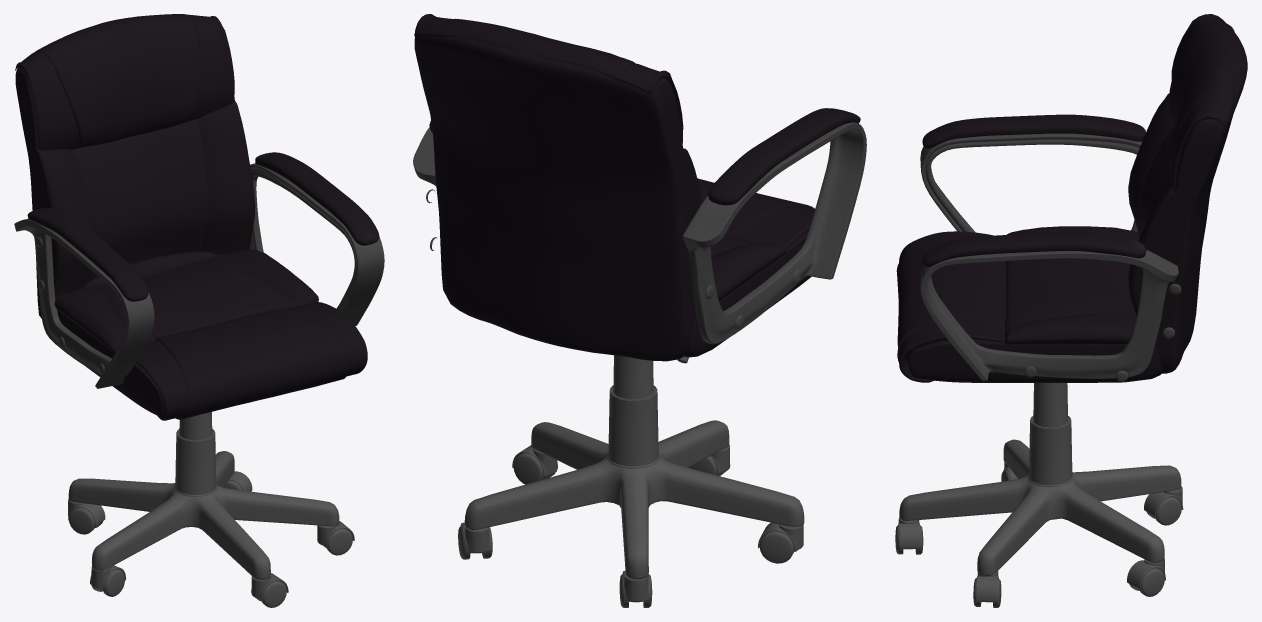
The model's file is B00IFHPVEU.glb.
The picture shows the model from 3 angles, left to right: view 1: azimuth 30°, elevation 25°; view 2: azimuth 150°, elevation 25°; view 3: azimuth 270°, elevation 25°; orthographic projection. The views are drawn at different scales.
Parts seen in each view (by area): view 1: "$ADAAOMLDFGCAAAAAICBAAAAAAAAALEEMGCMI"; view 2: "$ADAAOMLDFGCAAAAAICBAAAAAAAAALEEMGCMI"; view 3: "$ADAAOMLDFGCAAAAAICBAAAAAAAAALEEMGCMI".
Part boxes in pixels (x1,y1,x2,y2): "$ADAAOMLDFGCAAAAAICBAAAAAAAAALEEMGCMI": (14, 14, 384, 607); "$ADAAOMLDFGCAAAAAICBAAAAAAAAALEEMGCMI": (413, 14, 866, 607); "$ADAAOMLDFGCAAAAAICBAAAAAAAAALEEMGCMI": (895, 14, 1247, 607).
Bounding box in the file's own units: 0.5757 × 0.9979 × 0.6414.
1 material, 1 textured.
